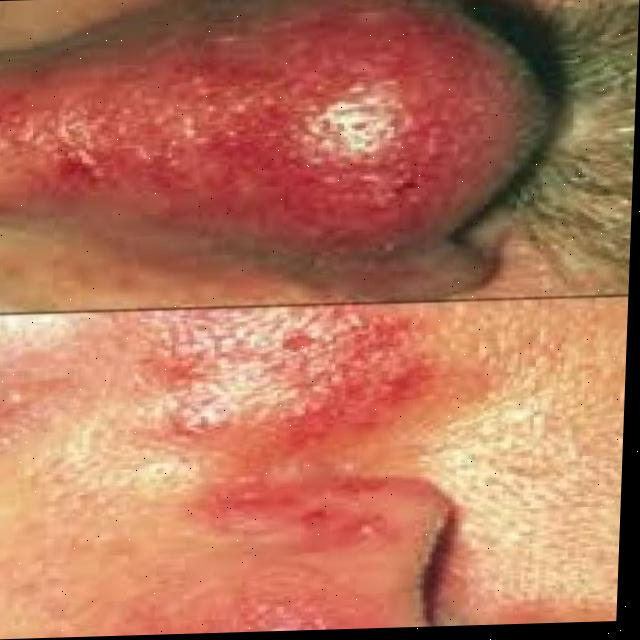Rosacea: (0, 48, 496, 253), (101, 330, 416, 548)
